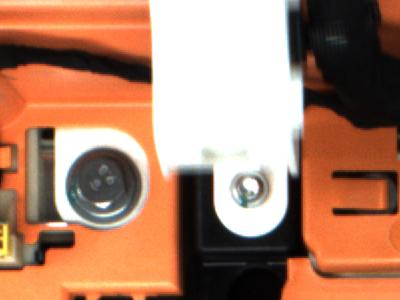nut_b: (61, 149, 142, 226)
